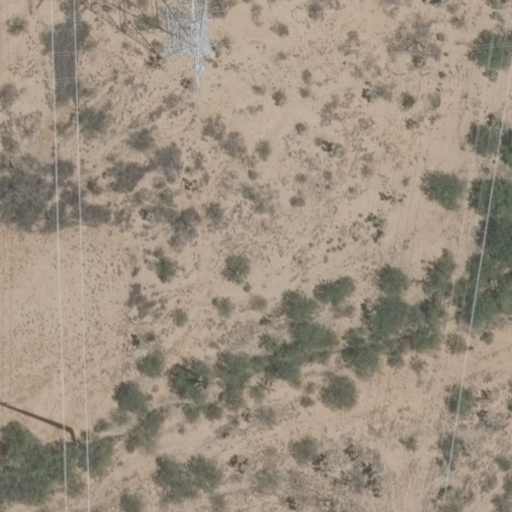TT: (152, 1, 216, 83)
